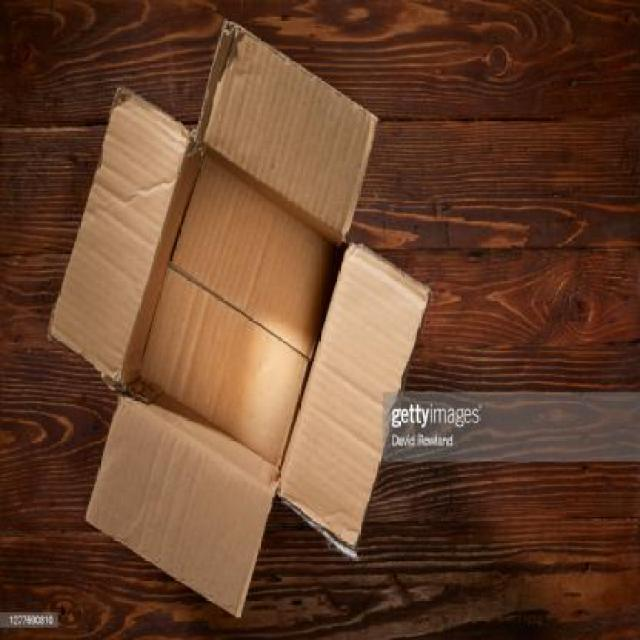box: (68, 26, 404, 596)
